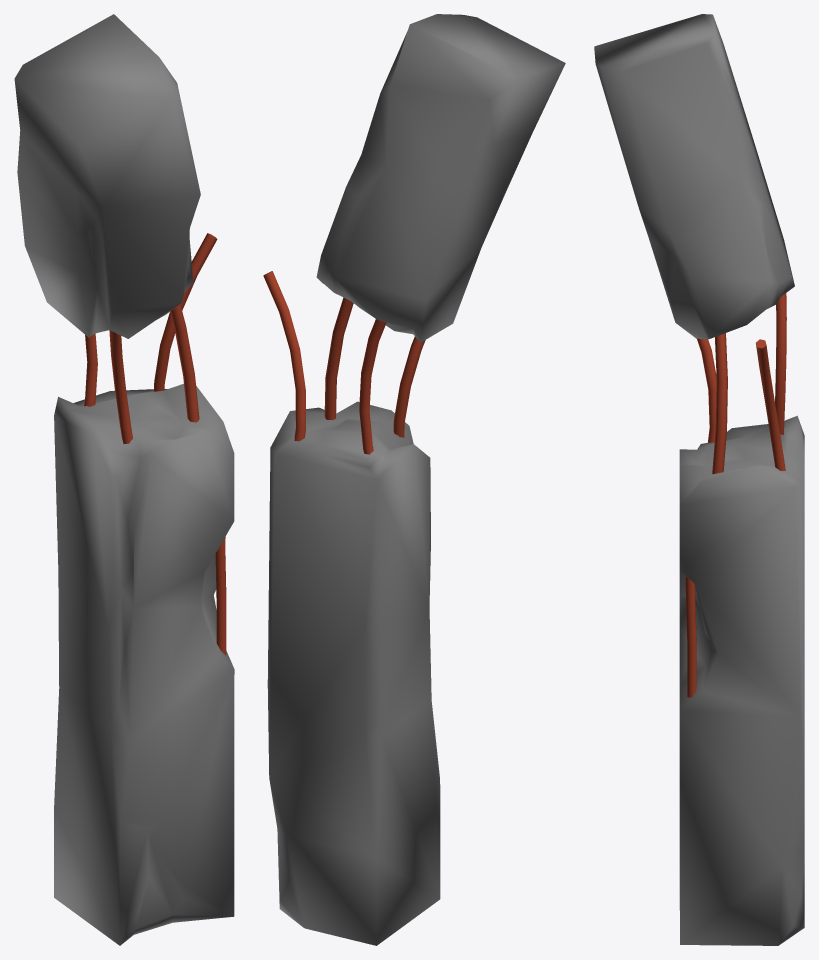
File: SM_pillar_broken_02.fbx
The picture shows the model from 3 angles, left to right: view 1: azimuth 30°, elevation 25°; view 2: azimuth 150°, elevation 25°; view 3: azimuth 270°, elevation 25°; orthographic projection. The views are drawn at different scales.
Visible parts, largest first — view 1: Object32352; view 2: Object32352; view 3: Object32352.
Boxes of the visible parts, x1,y1,x2,y2 form: Object32352: [14, 14, 234, 945]; Object32352: [263, 14, 565, 945]; Object32352: [594, 14, 804, 945].
Bounding box in the file's own units: 37.26 × 140 × 30.72.
